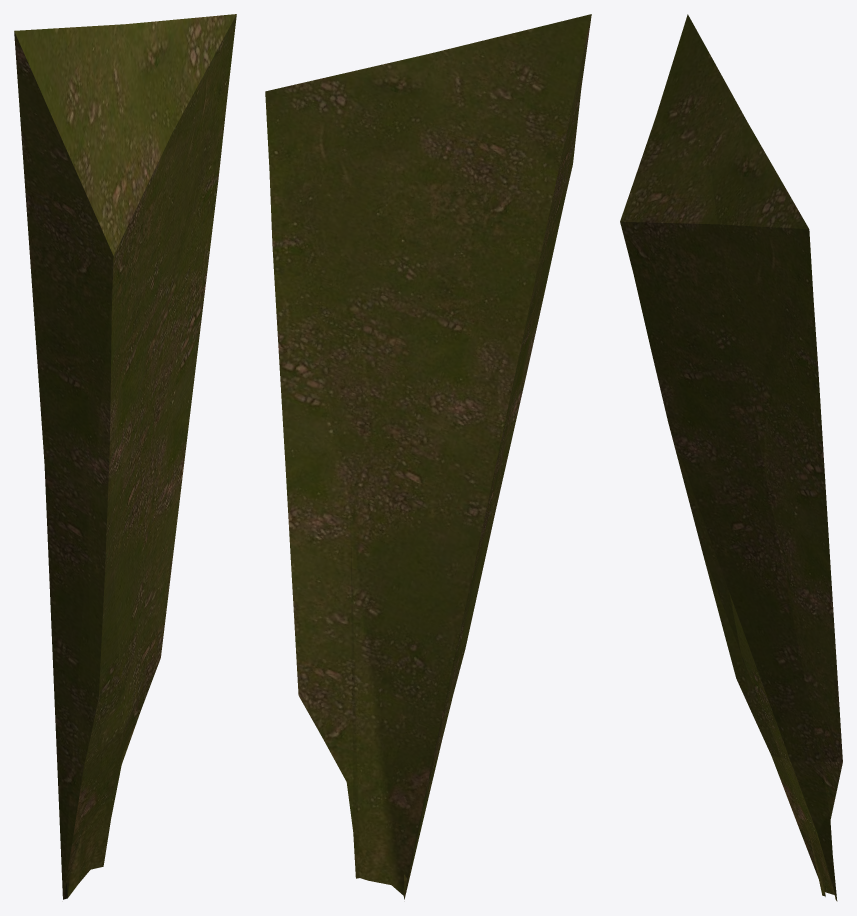
The model's file is shard_1.glb.
3 renders of one model, left to right at view 1: azimuth 30°, elevation 25°; view 2: azimuth 150°, elevation 25°; view 3: azimuth 270°, elevation 25°, orthographic. The views are drawn at different scales.
Visible parts, largest first — view 1: shard; view 2: shard; view 3: shard.
Part boxes in pixels (bbox=[...]): shard: bbox=[14, 14, 236, 899]; shard: bbox=[265, 14, 591, 899]; shard: bbox=[620, 14, 842, 901].
Bounding box in the file's own units: 0.7195 × 2.25 × 0.5487.
1 material, 1 textured.
